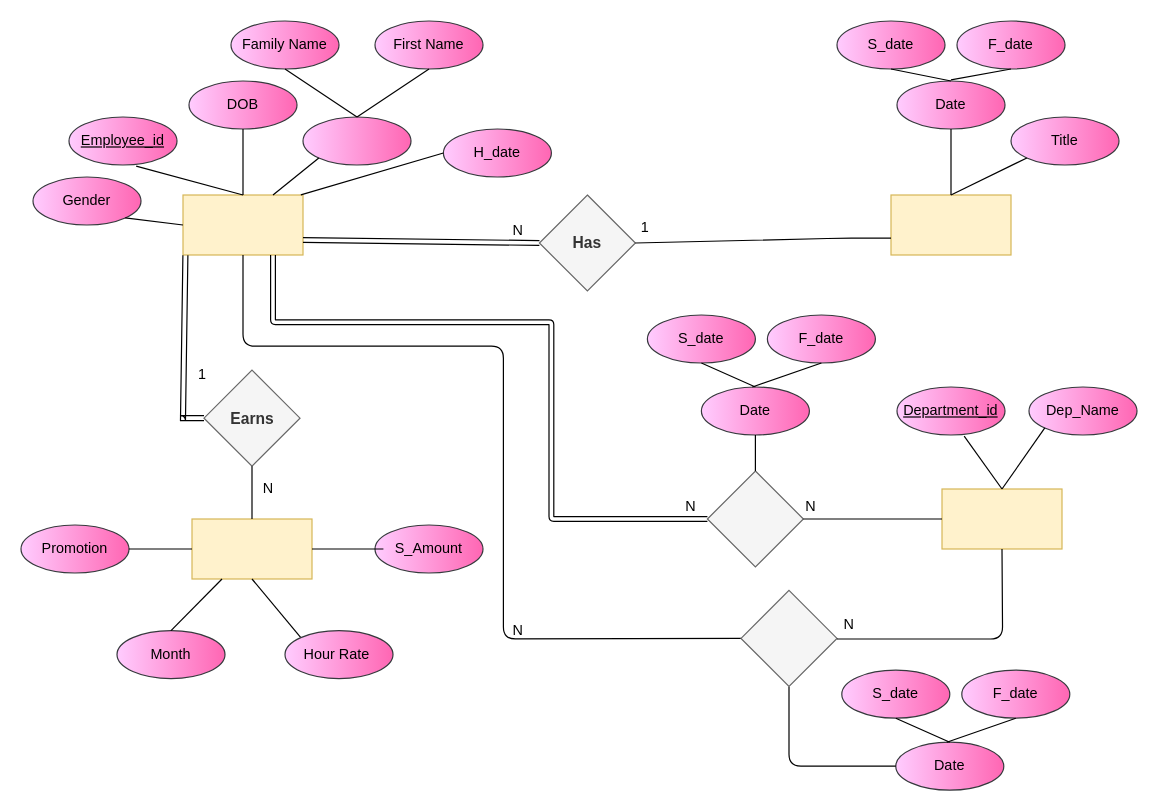
The diagram is 1158 pixels wide and 811 high, and some of its shapes have lost their labels. Each missing label, with the box of its shape:
Department: (941, 488, 1062, 549)
Employee: (182, 194, 303, 255)
Job_T: (890, 194, 1011, 255)
Manages: (740, 589, 837, 686)
Name: (302, 116, 411, 165)
Salary: (191, 518, 312, 579)
Works_in: (706, 470, 803, 567)
